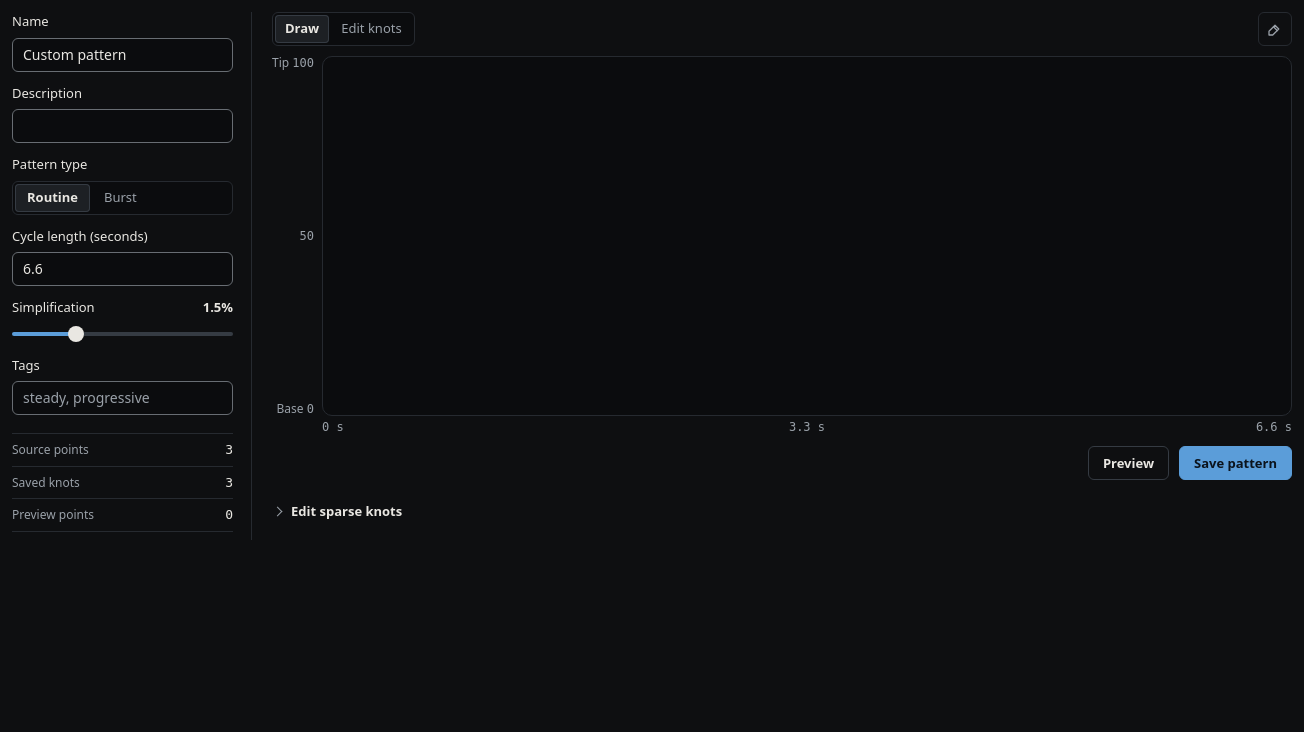
it: PatternAuthoring › labels the plot's scales and names the sampled line only once it exists
Check: the element showing "Tip 100 50 Base 0" is shown, box [272,56,314,416]
Check: the element showing "0 s 3.3 s 6.6 s" is shown, box [322,420,1292,434]
Click the button "Preview".
click(1128, 463)  # box [1088,446,1169,480]
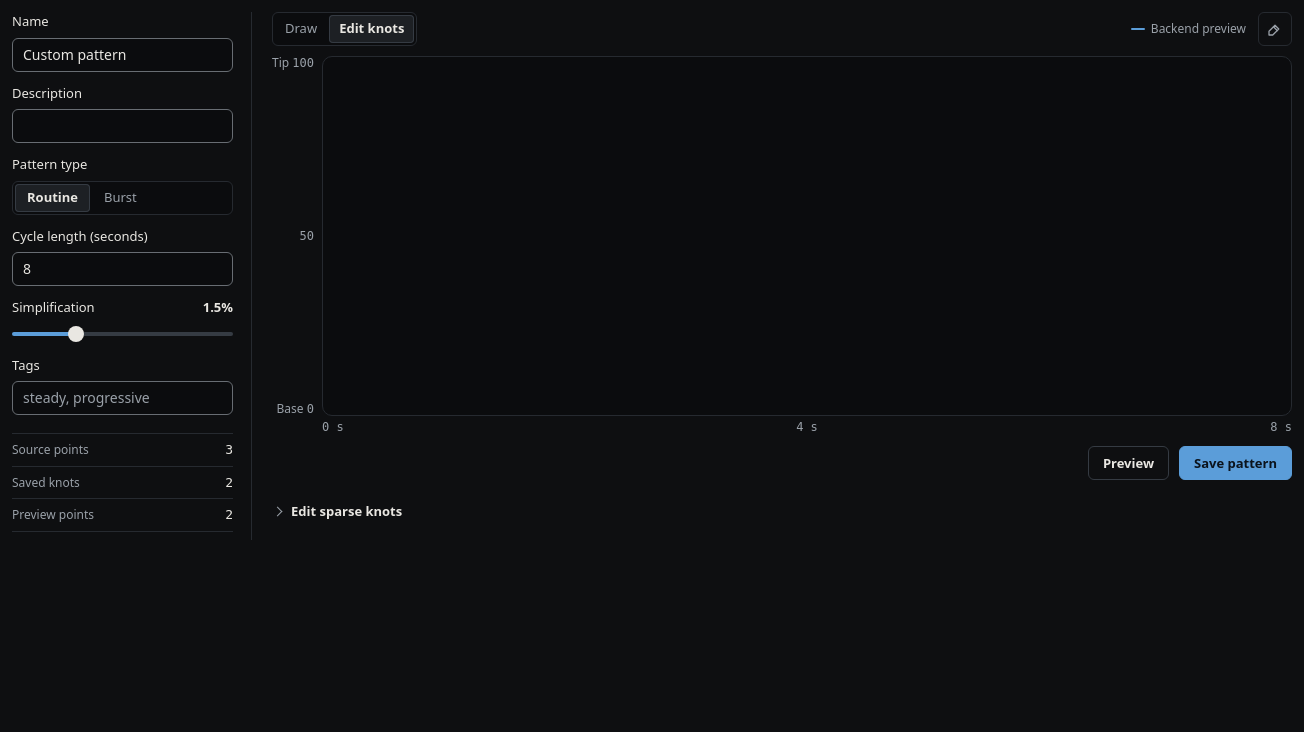
Check: the text "Backend preview" is shown, box [1131,20,1246,38]
Check: the element showing "0 s 4 s 8 s" is shown, box [322,420,1292,434]
